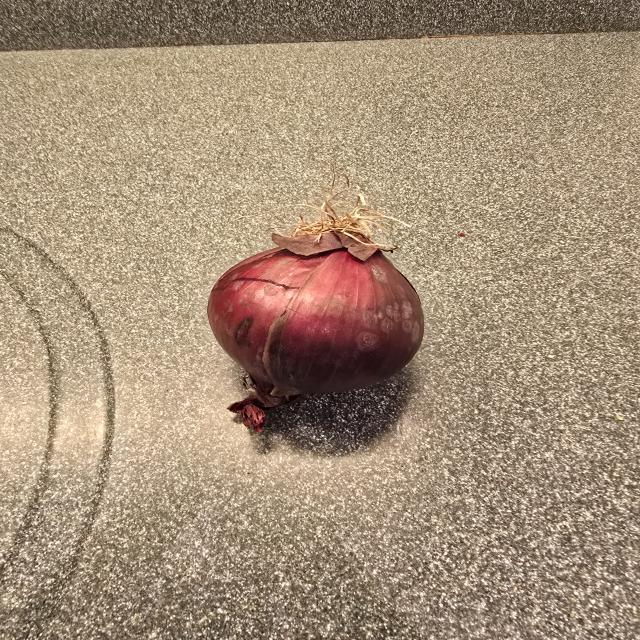Onion: (208, 212, 424, 423)
